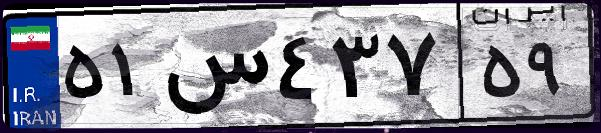1: (110, 28, 158, 98)
3: (330, 28, 385, 110)
4: (270, 28, 330, 110)
5: (57, 26, 110, 100), (475, 38, 525, 113)
7: (385, 28, 445, 110)
9: (525, 38, 570, 115)
س: (158, 20, 270, 120)
